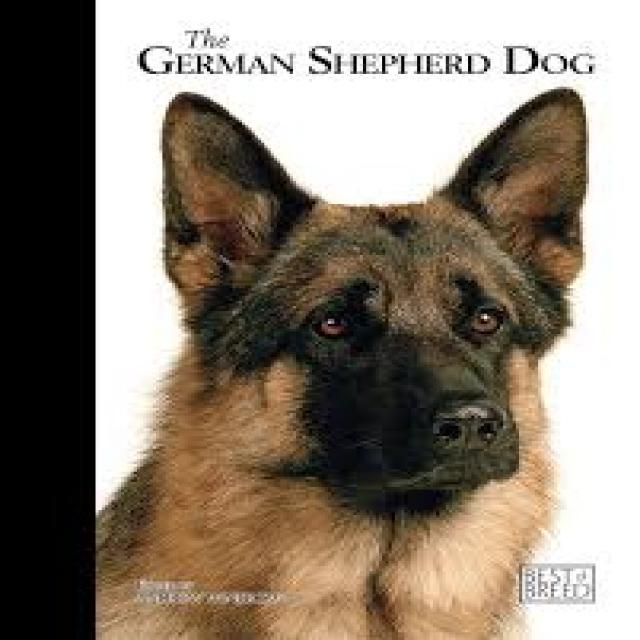Dog: (99, 84, 600, 638)
